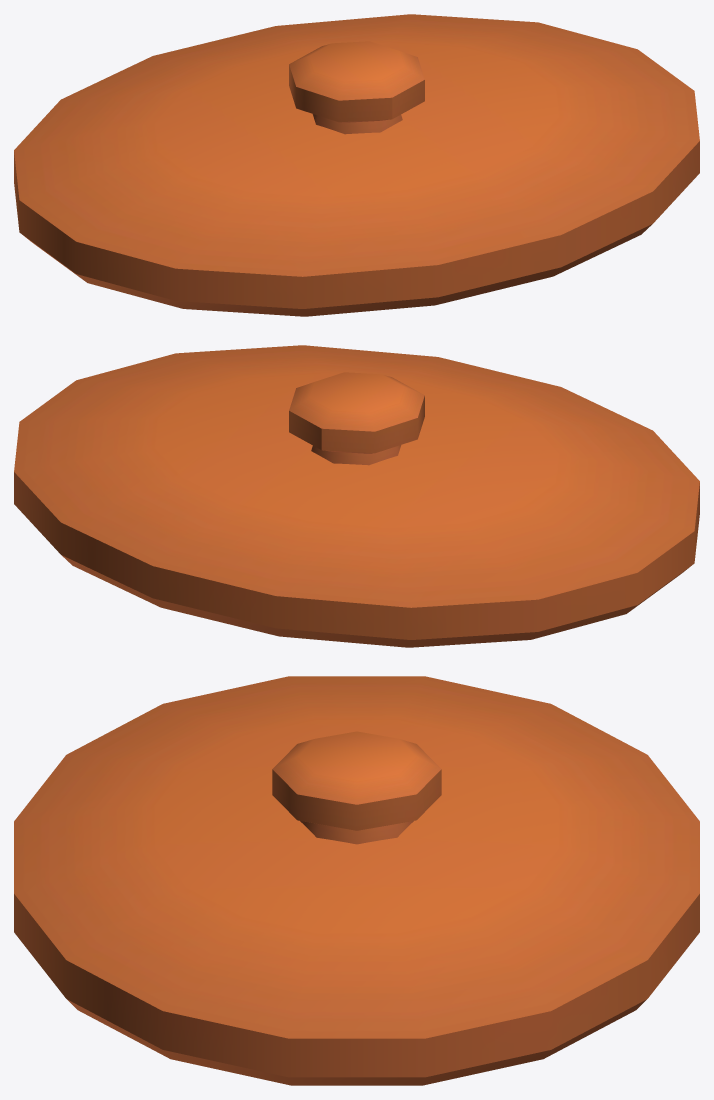
The model's file is lid-large.glb.
The picture shows the model from 3 angles, top to bottom: view 1: azimuth 30°, elevation 25°; view 2: azimuth 150°, elevation 25°; view 3: azimuth 270°, elevation 25°; orthographic projection. The views are drawn at different scales.
Parts seen in each view (by area): view 1: lid_large; view 2: lid_large; view 3: lid_large.
Boxes of the visible parts, x1=… form: lid_large: x1=14, y1=14, x2=699, y2=316; lid_large: x1=14, y1=345, x2=699, y2=647; lid_large: x1=14, y1=676, x2=699, y2=1085.
Bounding box in the file's own units: 1.5 × 0.2999 × 1.2.
1 material, 1 textured.
